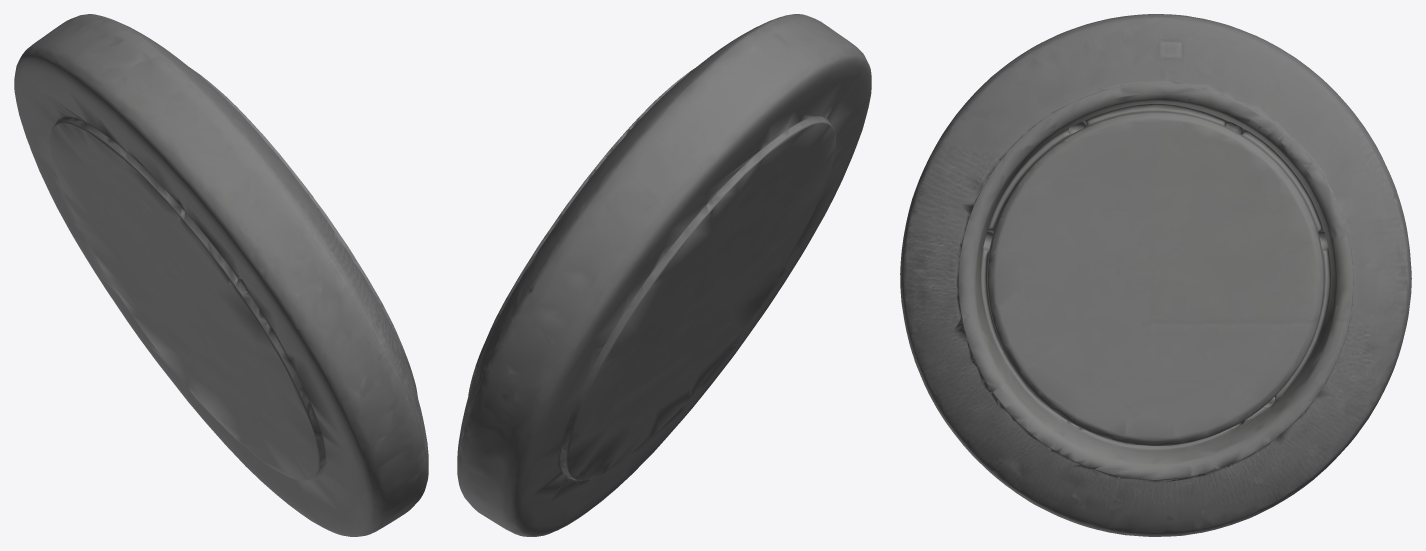
File: btn-build.glb
The picture shows the model from 3 angles, left to right: view 1: azimuth 30°, elevation 25°; view 2: azimuth 150°, elevation 25°; view 3: azimuth 270°, elevation 25°; orthographic projection. The views are drawn at different scales.
Parts seen in each view (by area): view 1: tripo_node_58833972-cc4a-46b9-875d-86d3fe7cdbf2; view 2: tripo_node_58833972-cc4a-46b9-875d-86d3fe7cdbf2; view 3: tripo_node_58833972-cc4a-46b9-875d-86d3fe7cdbf2.
Part boxes in pixels (x1=…): tripo_node_58833972-cc4a-46b9-875d-86d3fe7cdbf2: x1=14, y1=14, x2=428, y2=536; tripo_node_58833972-cc4a-46b9-875d-86d3fe7cdbf2: x1=457, y1=14, x2=871, y2=536; tripo_node_58833972-cc4a-46b9-875d-86d3fe7cdbf2: x1=900, y1=14, x2=1411, y2=536.
Size of the model in its own units: 0.5603 by 0.9998 by 1.04.
Materials: 1 (1 with a texture image).
